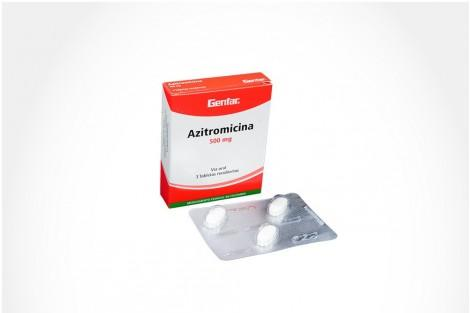Genfar: (174, 86, 268, 209)
